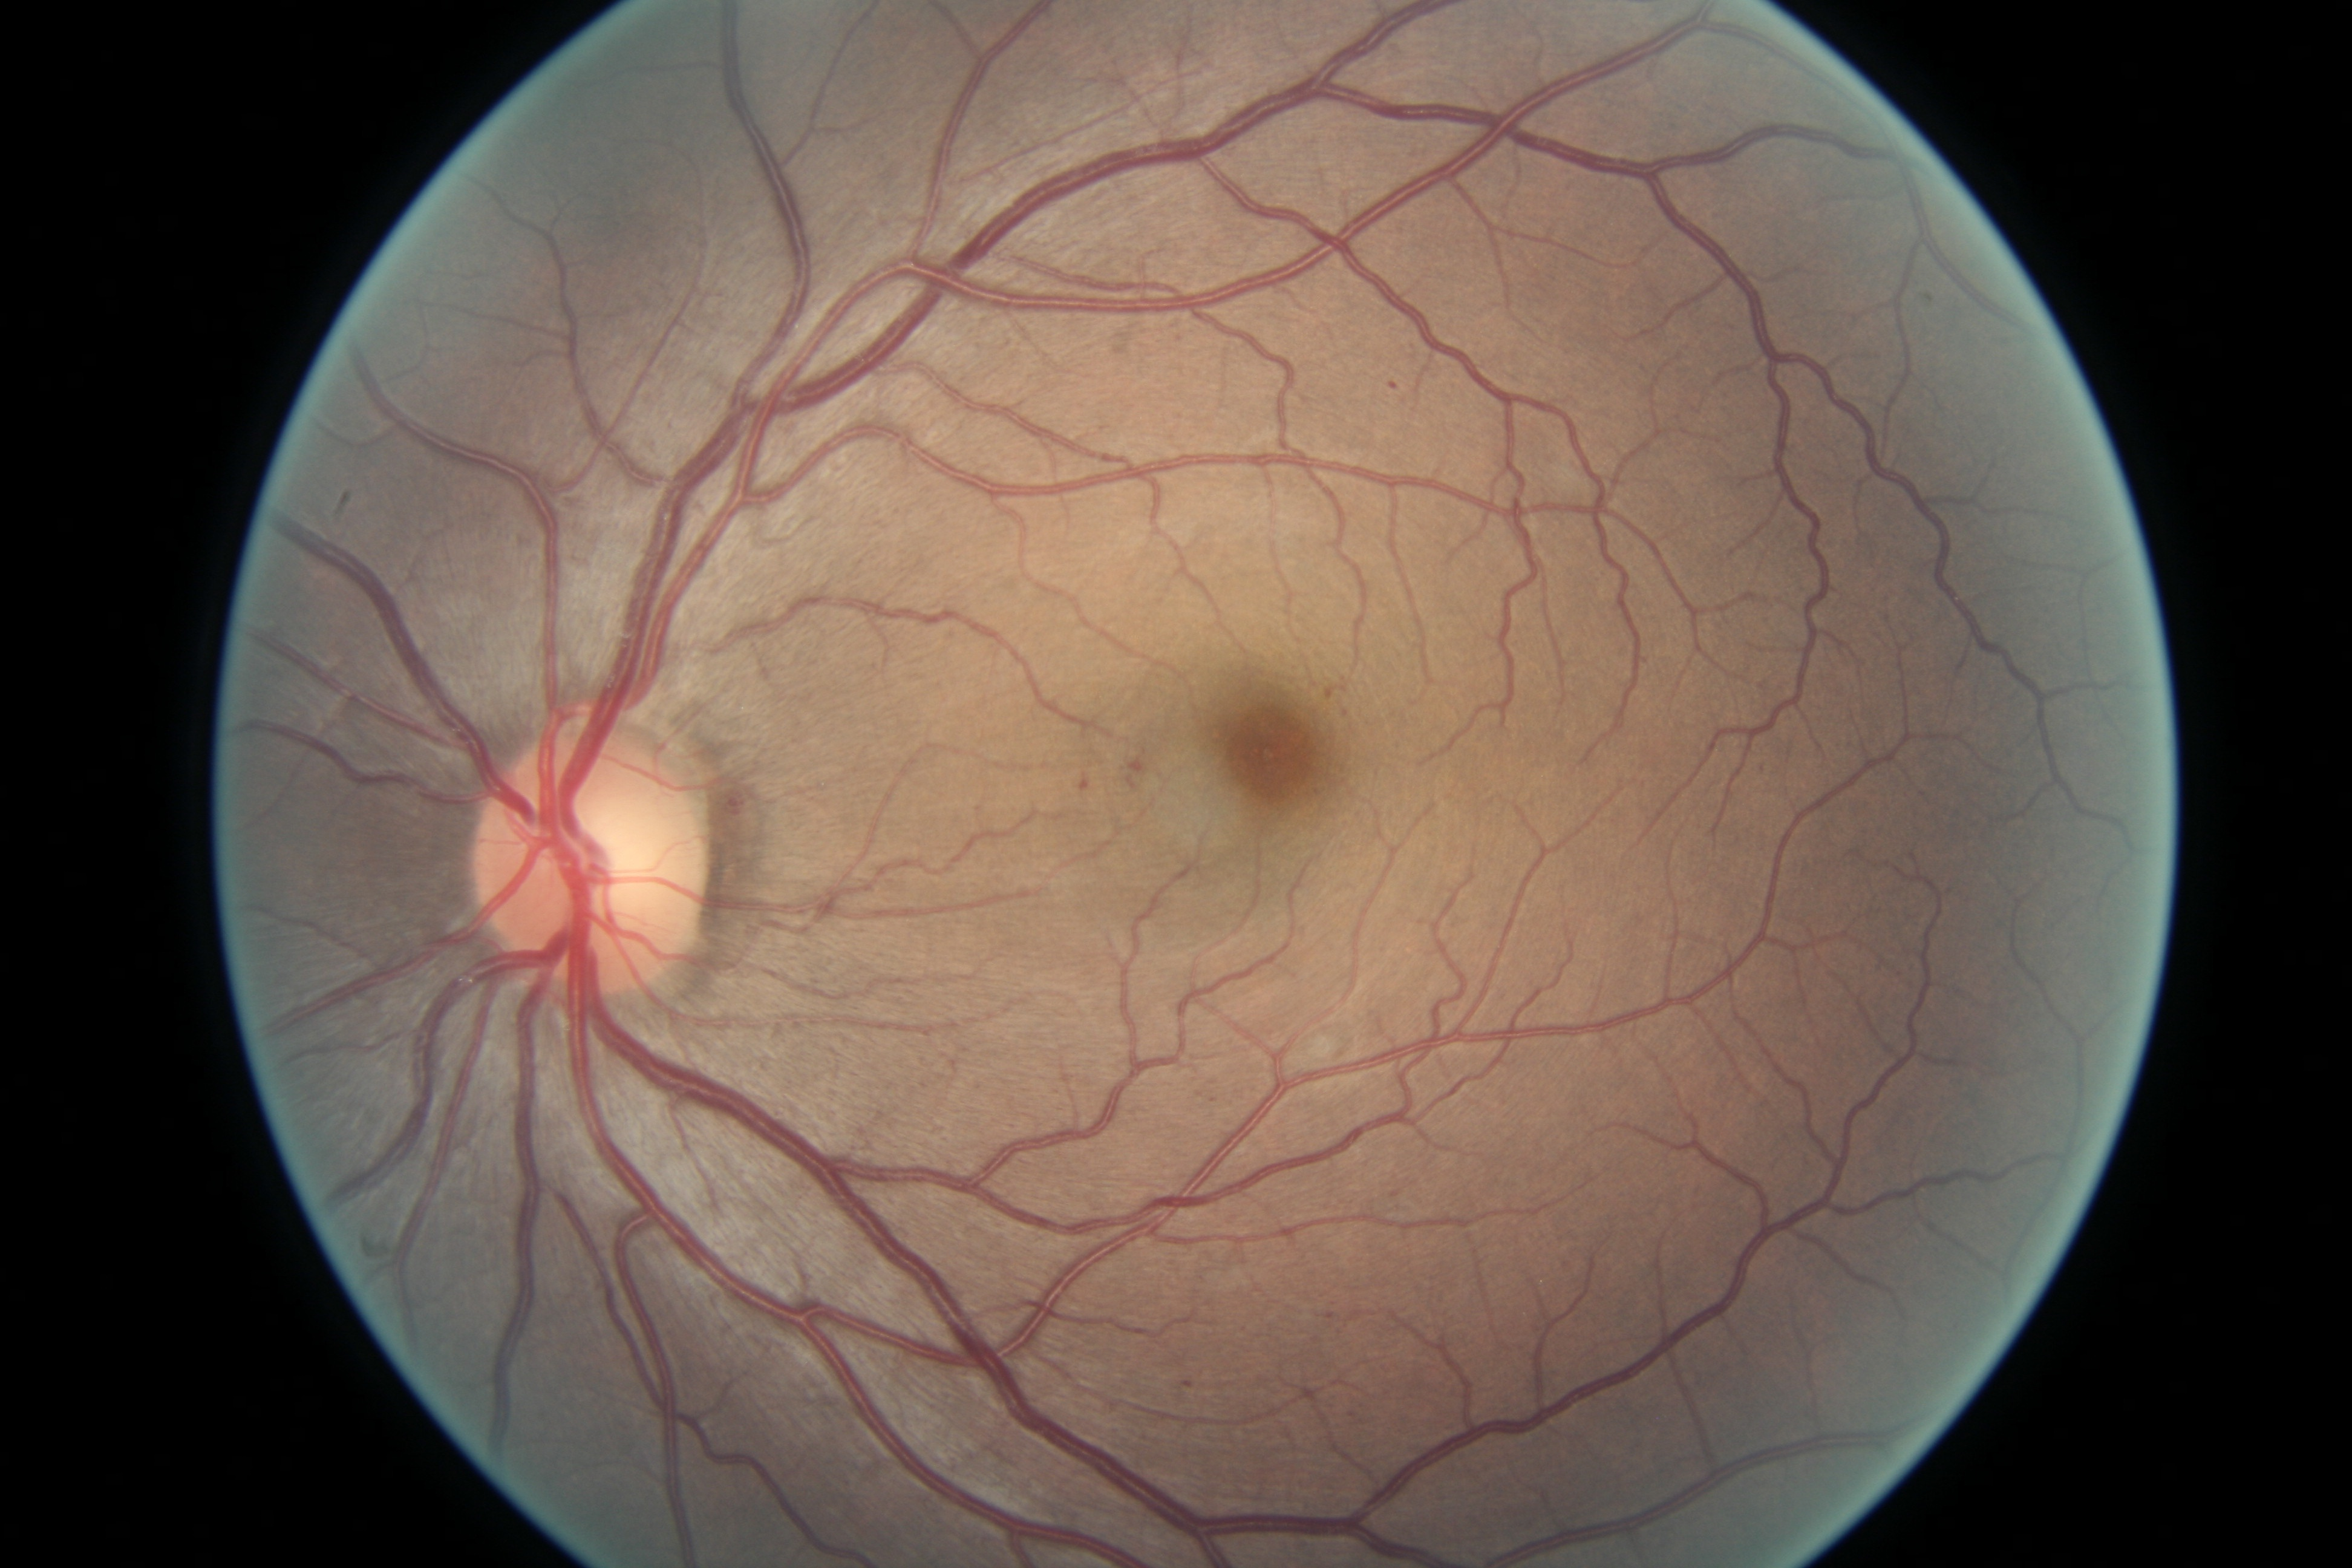Fovea: (1181, 668, 1365, 849)
OD: (467, 712, 724, 1008)
